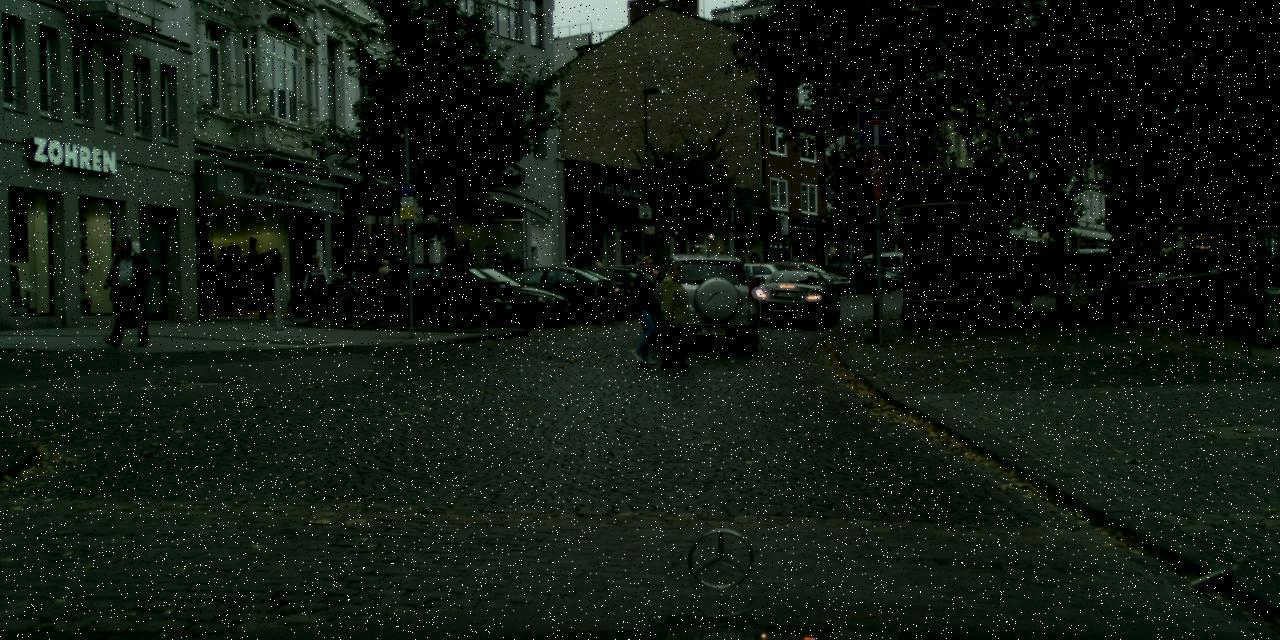ped: (652, 258, 696, 366), (104, 236, 148, 343), (623, 255, 666, 363), (104, 240, 139, 328), (1008, 240, 1038, 311), (1047, 243, 1075, 312), (302, 252, 330, 319), (351, 248, 377, 314), (255, 255, 281, 319), (1060, 243, 1081, 295), (1041, 246, 1061, 296), (374, 259, 394, 308), (1102, 243, 1120, 286), (492, 257, 509, 302), (574, 258, 590, 298), (748, 256, 761, 290), (1162, 242, 1174, 276), (806, 253, 818, 284), (829, 252, 839, 278), (1262, 247, 1272, 264), (1250, 247, 1256, 265)
